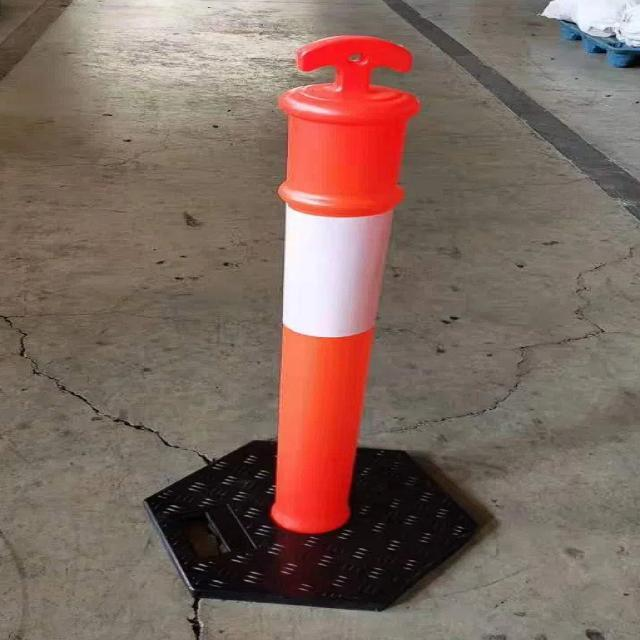Bollard: (270, 31, 413, 532)
